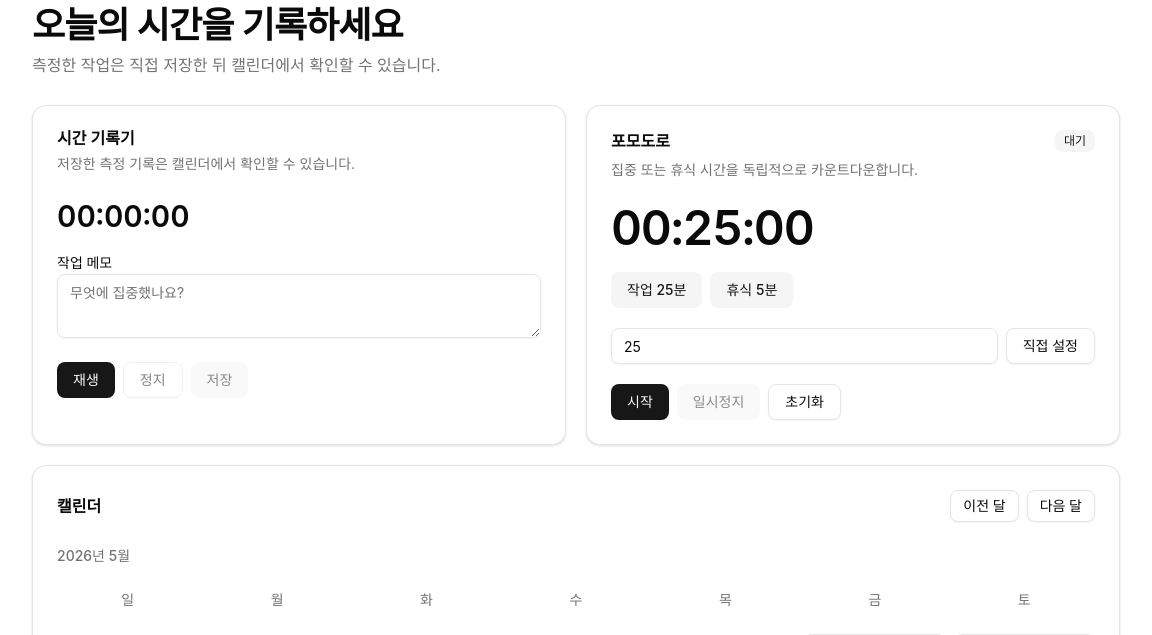
Test case: adds an explicitly saved work session to the selected calendar date
This screenshot has width=1152, height=635.
Type "저장 확인" into the text box labelled "작업 메모" at (299, 306), box [57, 274, 541, 338]
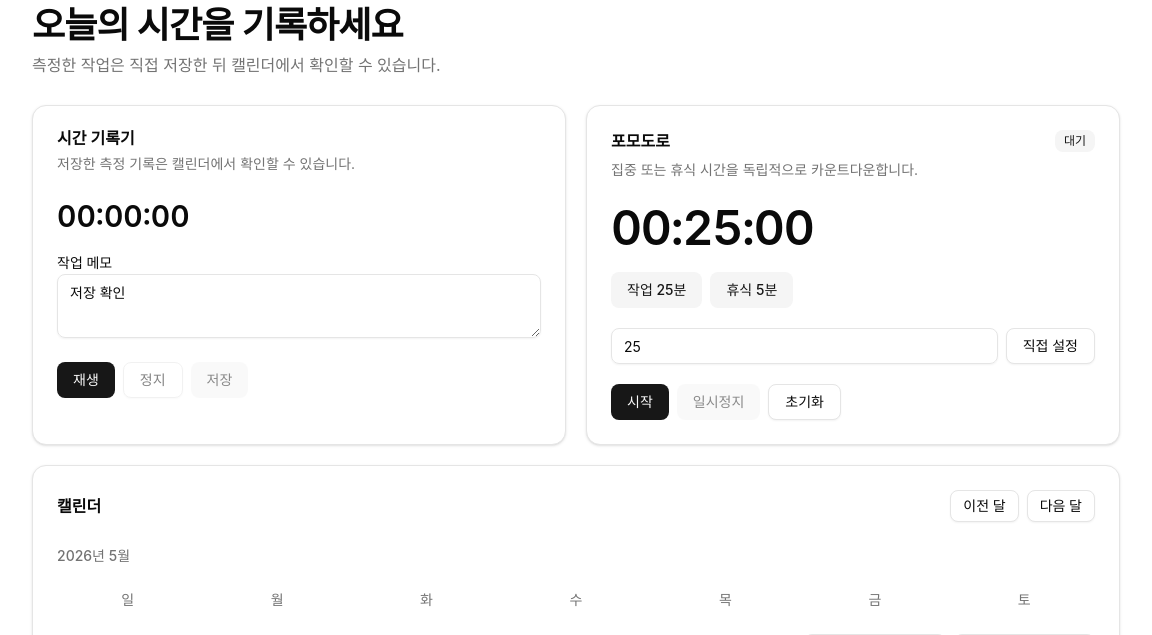
Click the button "재생" at (86, 380), box [57, 362, 115, 398]
Wait 60000 ms
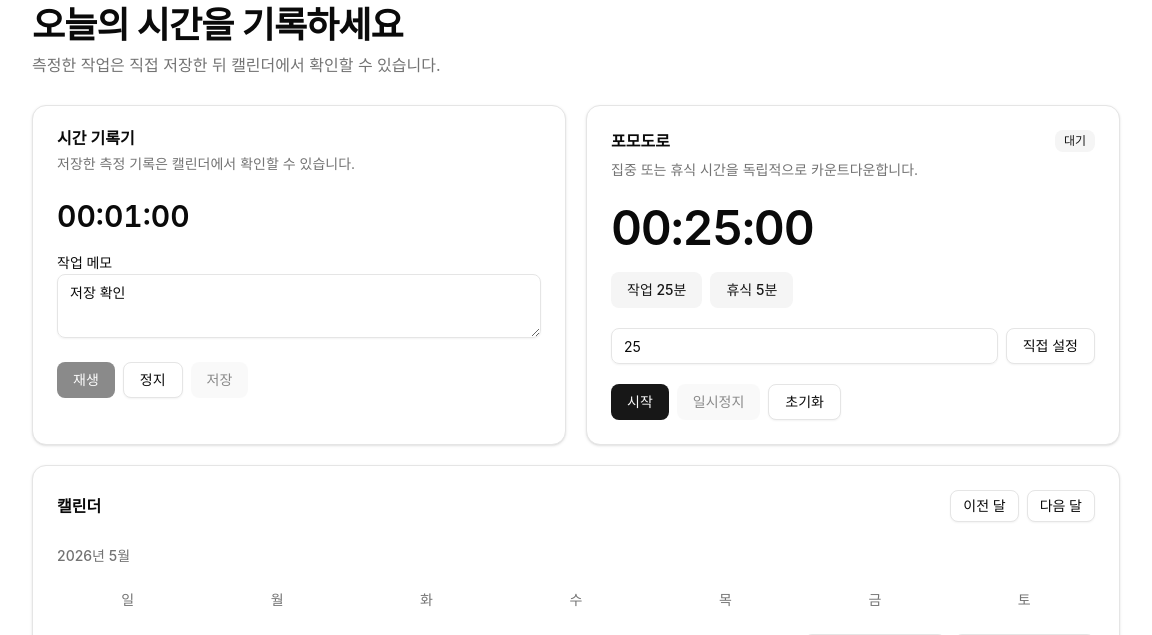
Click the button "정지" at (153, 380), box [123, 362, 183, 398]
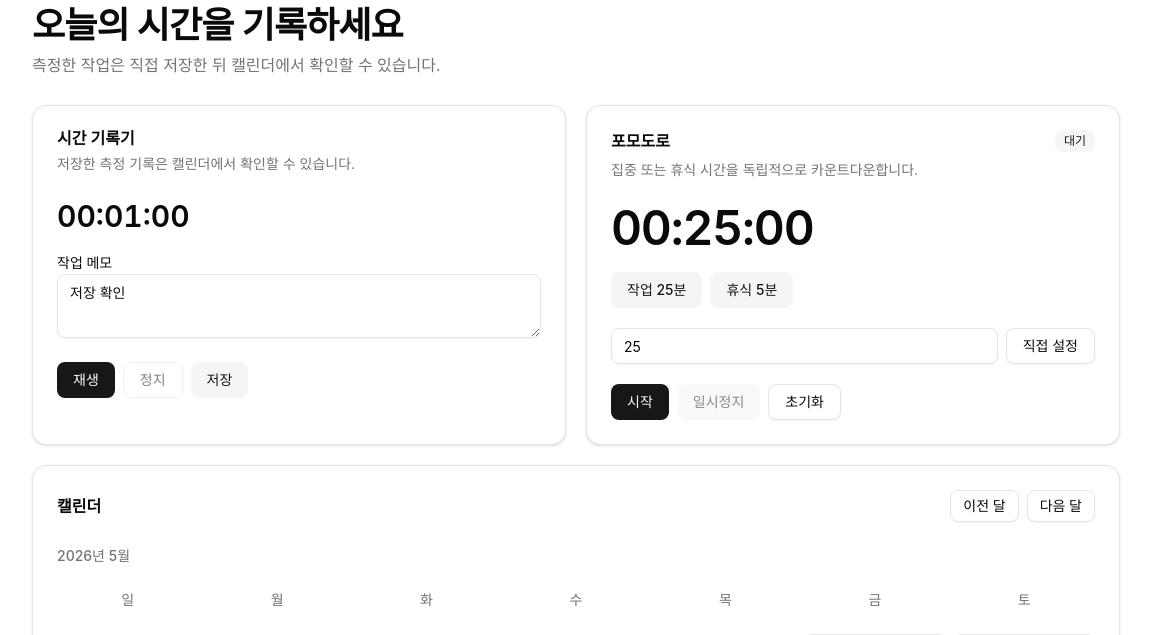
Click the button "저장" at (219, 380), box [190, 362, 248, 398]
(page scrolled)
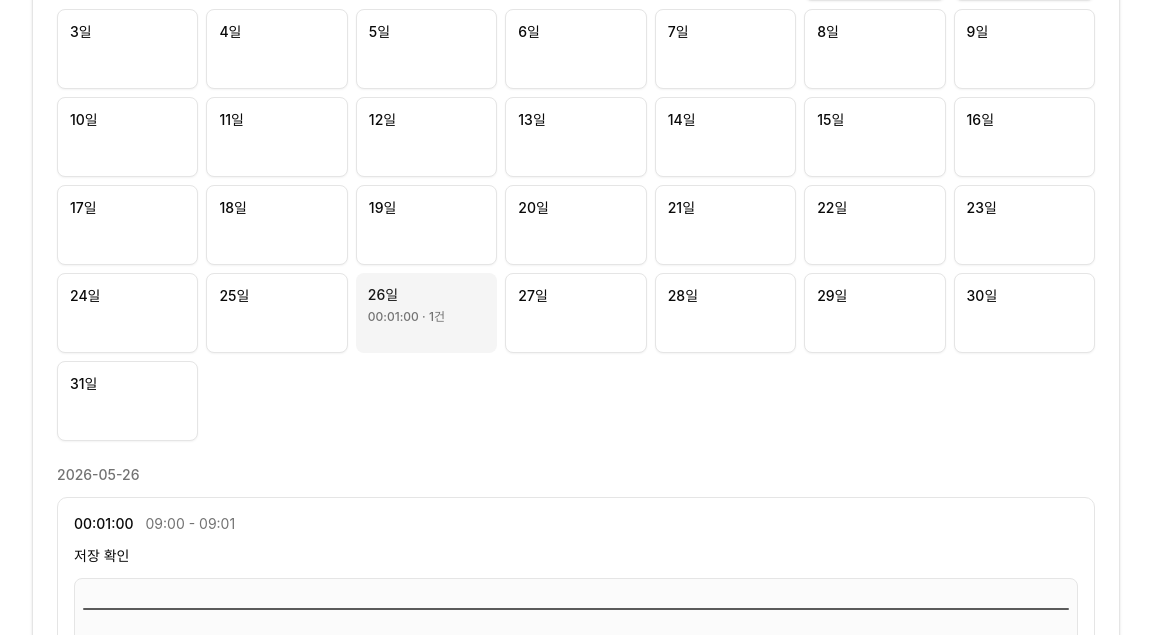
Now the text "저장 확인" is shown, box [74, 547, 130, 564]
Now the button "26일 00:01:00 · 1건" is shown, box [356, 273, 497, 353]
